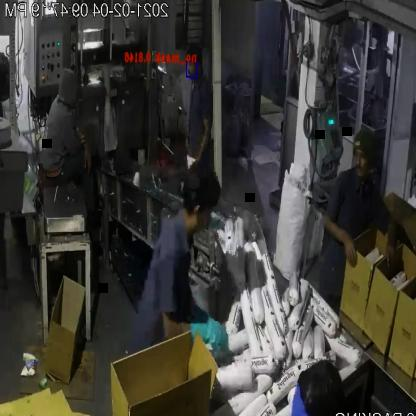glove: (184, 312, 234, 360)
no_glove: (186, 110, 219, 173), (320, 212, 357, 266), (381, 207, 402, 274), (78, 135, 96, 182)
